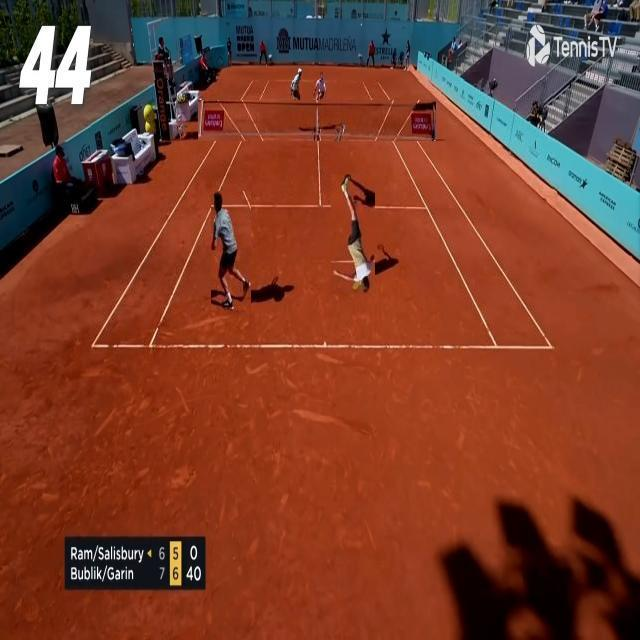court: (91, 80, 554, 349)
net: (200, 100, 438, 141)
player: (332, 174, 376, 294), (212, 191, 252, 310)
